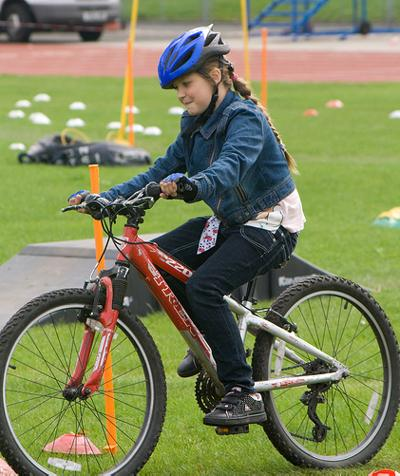person: (67, 22, 307, 428)
